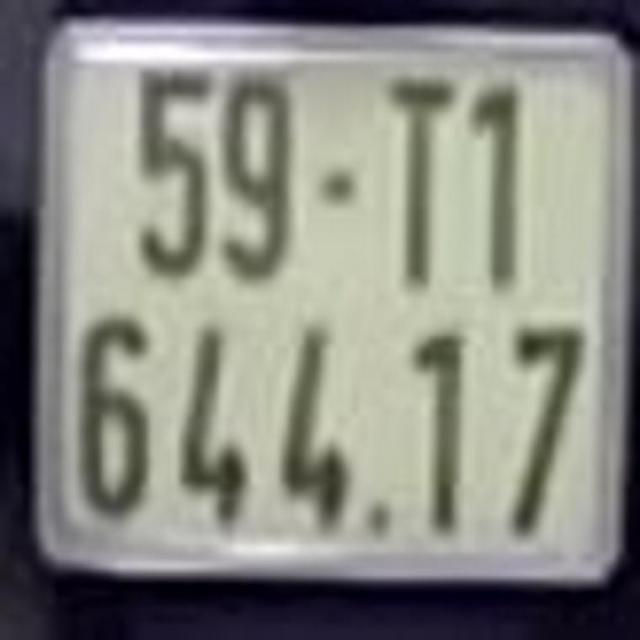1: (468, 73, 529, 287), (409, 324, 467, 546)
4: (278, 316, 352, 527), (176, 321, 251, 522)
5: (132, 66, 213, 279)
6: (75, 308, 152, 511)
7: (507, 316, 584, 546)
9: (221, 74, 294, 273)
T: (379, 67, 455, 290)
